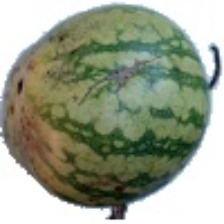watermelon: (44, 35, 218, 218)
